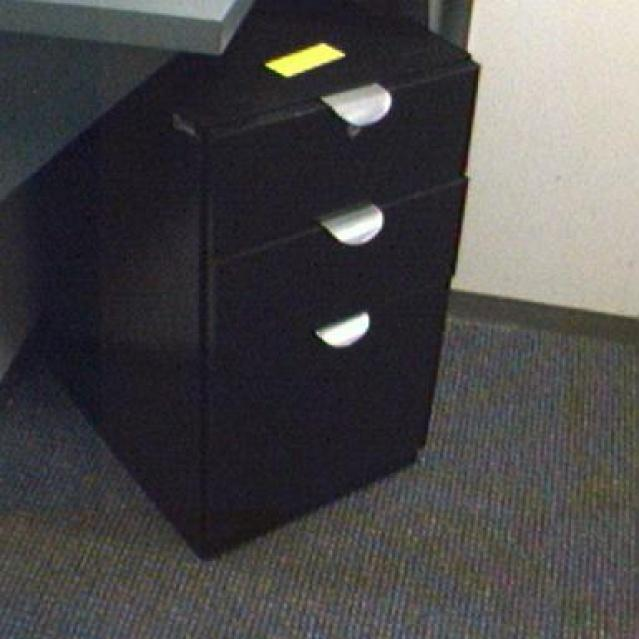Filing Cabinet: (200, 56, 483, 556)
